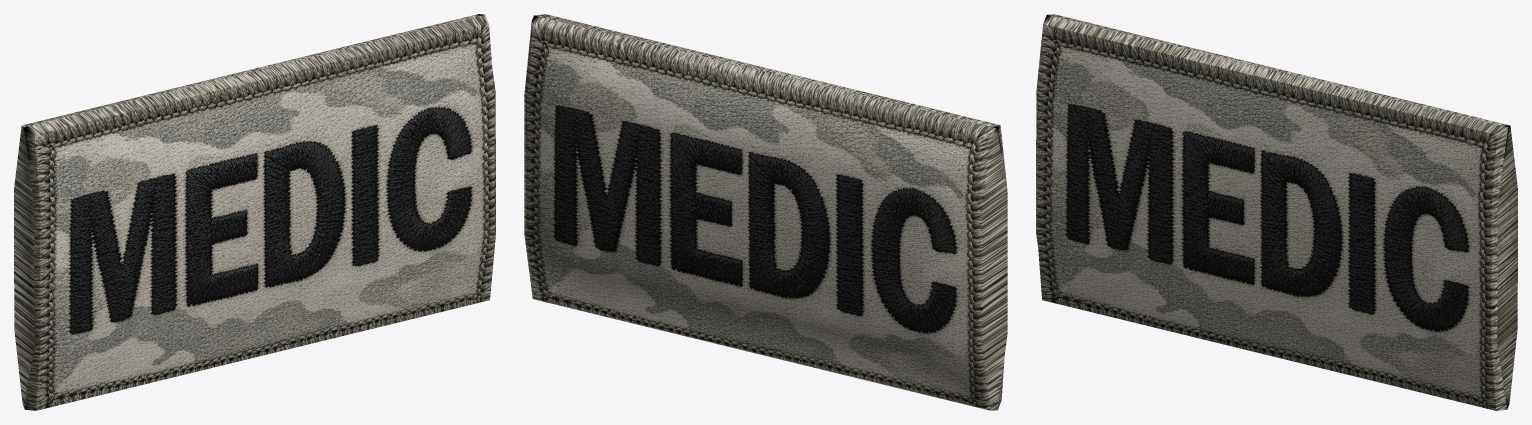
Rendered from MedicArctic.fbx.
The picture shows the model from 3 angles, left to right: view 1: azimuth 30°, elevation 25°; view 2: azimuth 150°, elevation 25°; view 3: azimuth 330°, elevation 25°; orthographic projection.
Visible parts, largest first — view 1: FlagPatch; view 2: FlagPatch; view 3: FlagPatch.
Part boxes in pixels (left/top/right/bottom): FlagPatch: left=14, top=14, right=495, bottom=410; FlagPatch: left=524, top=14, right=1007, bottom=410; FlagPatch: left=1036, top=14, right=1517, bottom=410.
Size of the model in its own units: 9.23 by 5.38 by 0.9201.
1 material, 1 textured.
